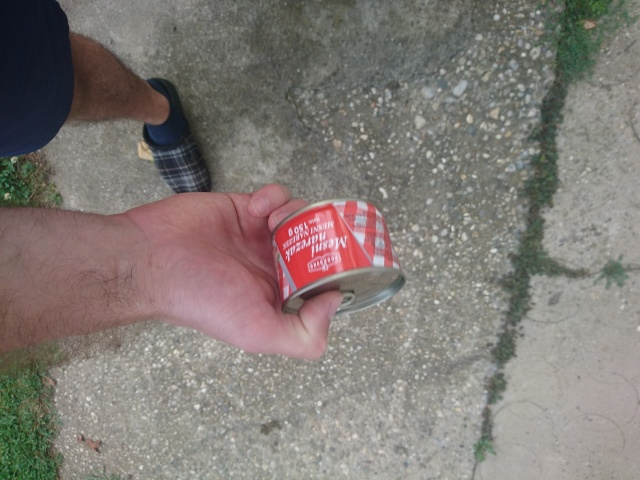Podravka Luncheon Meat 150g: (267, 194, 410, 319)
